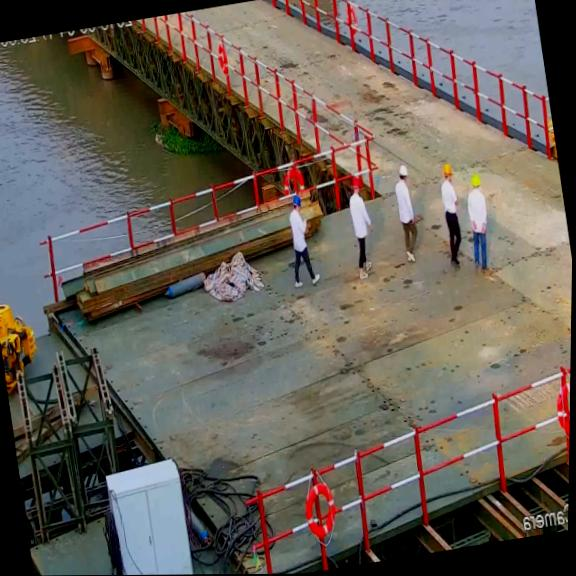no_safety_vest: (463, 187, 492, 241), (343, 191, 373, 243), (283, 207, 312, 259), (392, 179, 419, 233), (437, 180, 464, 231)
